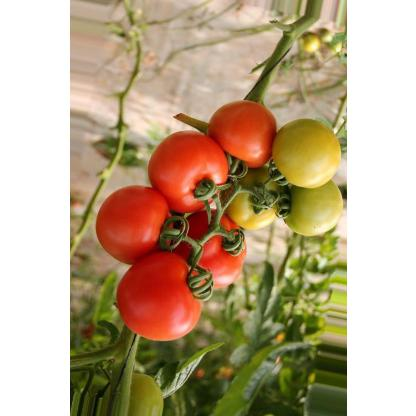tomato: (111, 248, 207, 344), (89, 172, 180, 268), (140, 124, 232, 204), (177, 199, 251, 291), (202, 93, 286, 171), (276, 167, 342, 251), (270, 110, 332, 190), (220, 166, 286, 234)
